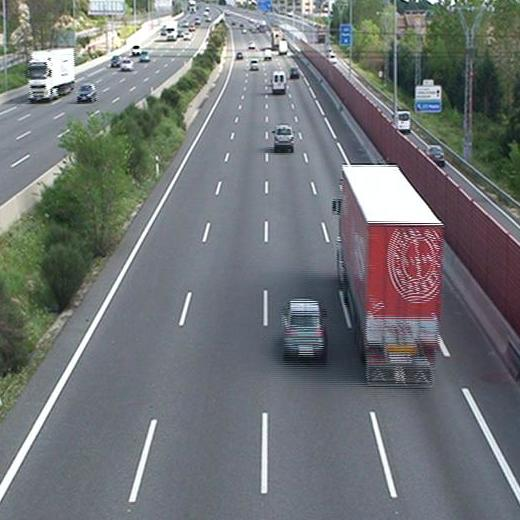car: (281, 299, 328, 362), (272, 124, 294, 150), (249, 58, 259, 71), (289, 66, 299, 78)
truck: (334, 169, 443, 387)
van: (271, 72, 287, 92)
